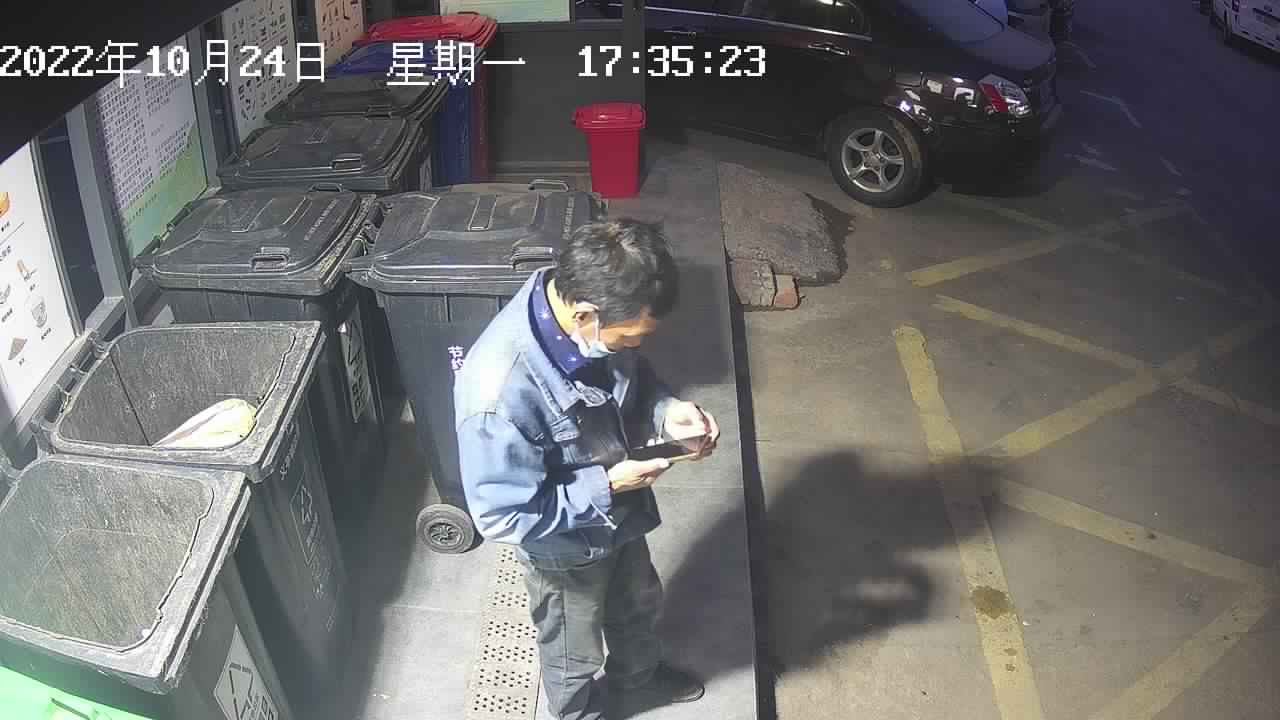worker: (448, 214, 724, 720)
